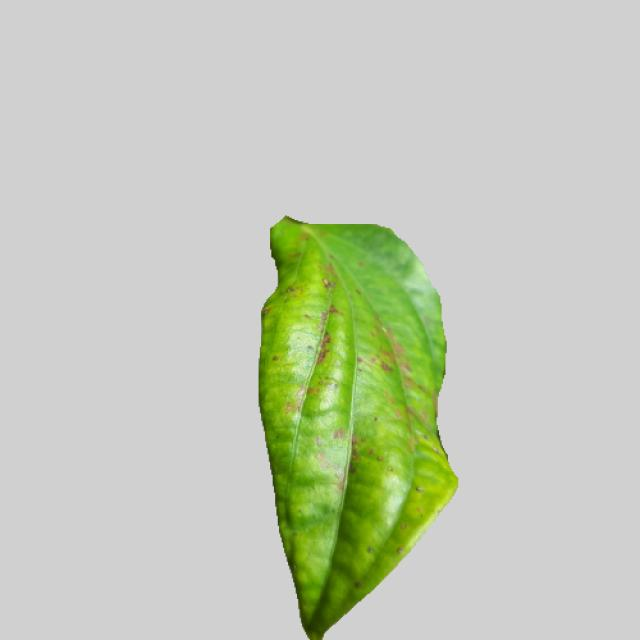yellow-mottle-virus: (247, 215, 465, 637)
